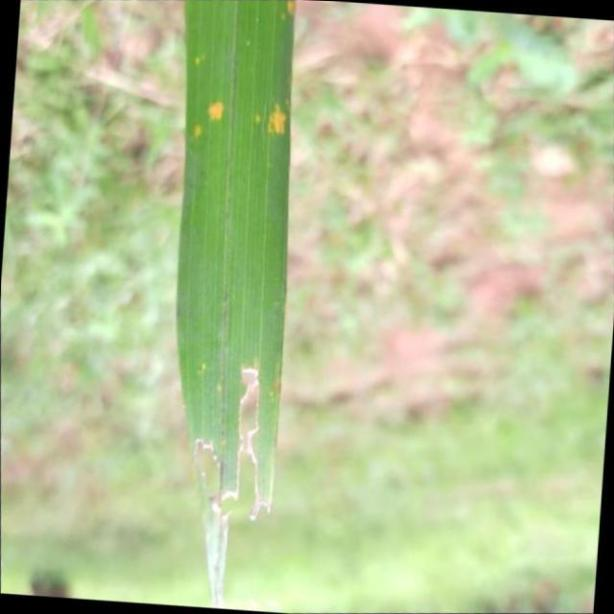Kalium: (172, 0, 296, 610)
